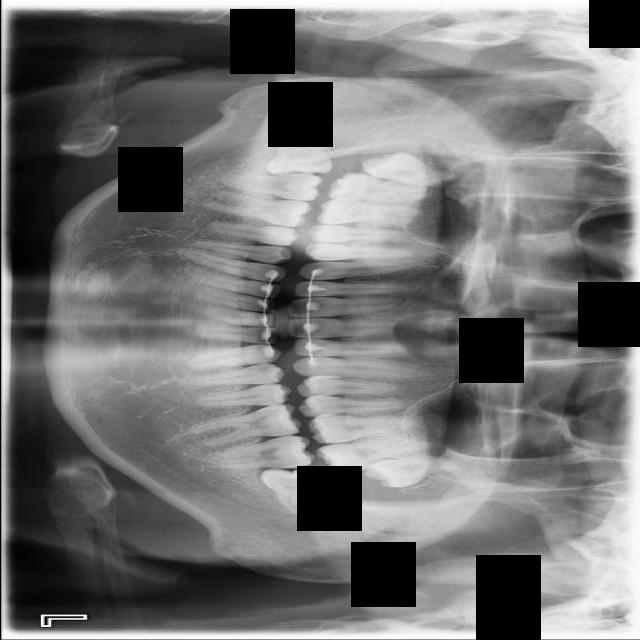3M ESPE Implant: (358, 142, 458, 197)
73: (28, 614, 34, 624)
BioHorizons Implant: (313, 430, 435, 479)
BioLife Implant: (362, 450, 462, 492)
Biomet 3i Implant: (258, 466, 330, 519)
Blue Sky Bio Implant: (202, 434, 316, 474)
Caries: (326, 171, 425, 206)
Implant: (222, 167, 324, 203)
Keystone Dental Implant: (262, 129, 334, 179)
